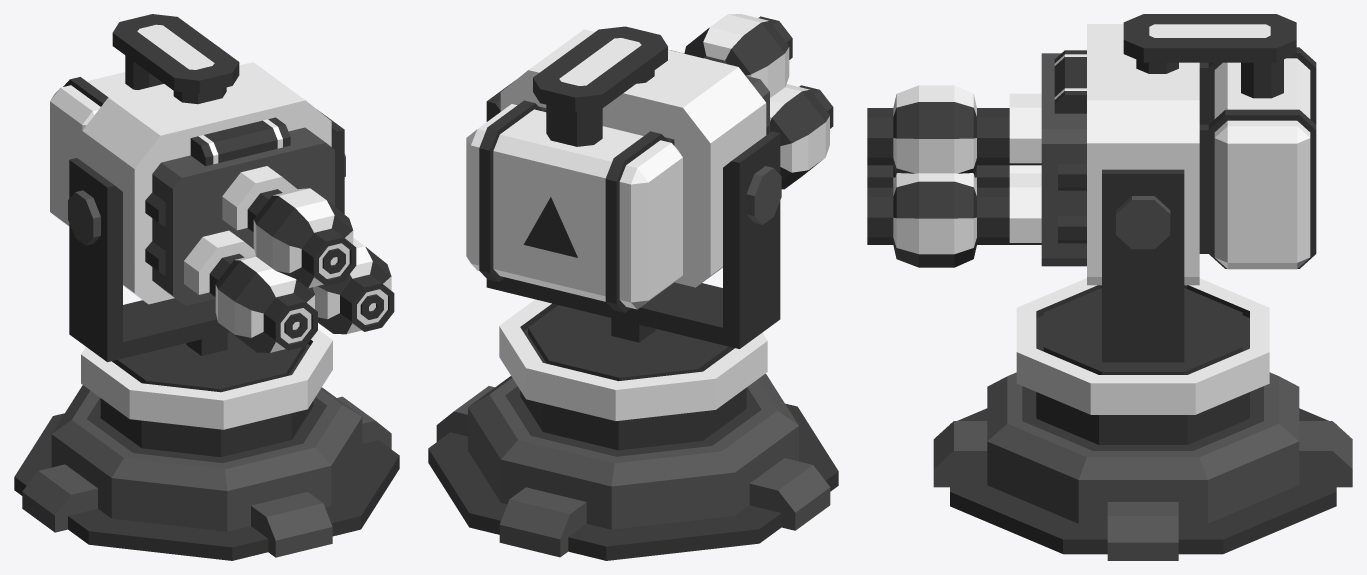
File: Toxin_3.fbx
3 views of the same model, side by side, from view 1: azimuth 30°, elevation 25°; view 2: azimuth 150°, elevation 25°; view 3: azimuth 270°, elevation 25° (orthographic). The views are drawn at different scales.
Visible parts, largest first — view 1: Body_Mesh, Base_Mesh, Upper_Mesh; view 2: Body_Mesh, Base_Mesh, Upper_Mesh; view 3: Body_Mesh, Base_Mesh, Upper_Mesh.
Boxes of the visible parts, x1,y1,x2,y2 form: Body_Mesh: (50,14,394,352); Base_Mesh: (14,385,399,560); Upper_Mesh: (69,109,344,457); Body_Mesh: (466,14,833,312); Base_Mesh: (428,373,838,560); Upper_Mesh: (486,81,780,450); Body_Mesh: (867,14,1316,285); Base_Mesh: (933,372,1352,560); Upper_Mesh: (1016,169,1269,444).
Size of the model in its own units: 1.3 by 1.51 by 1.51.
